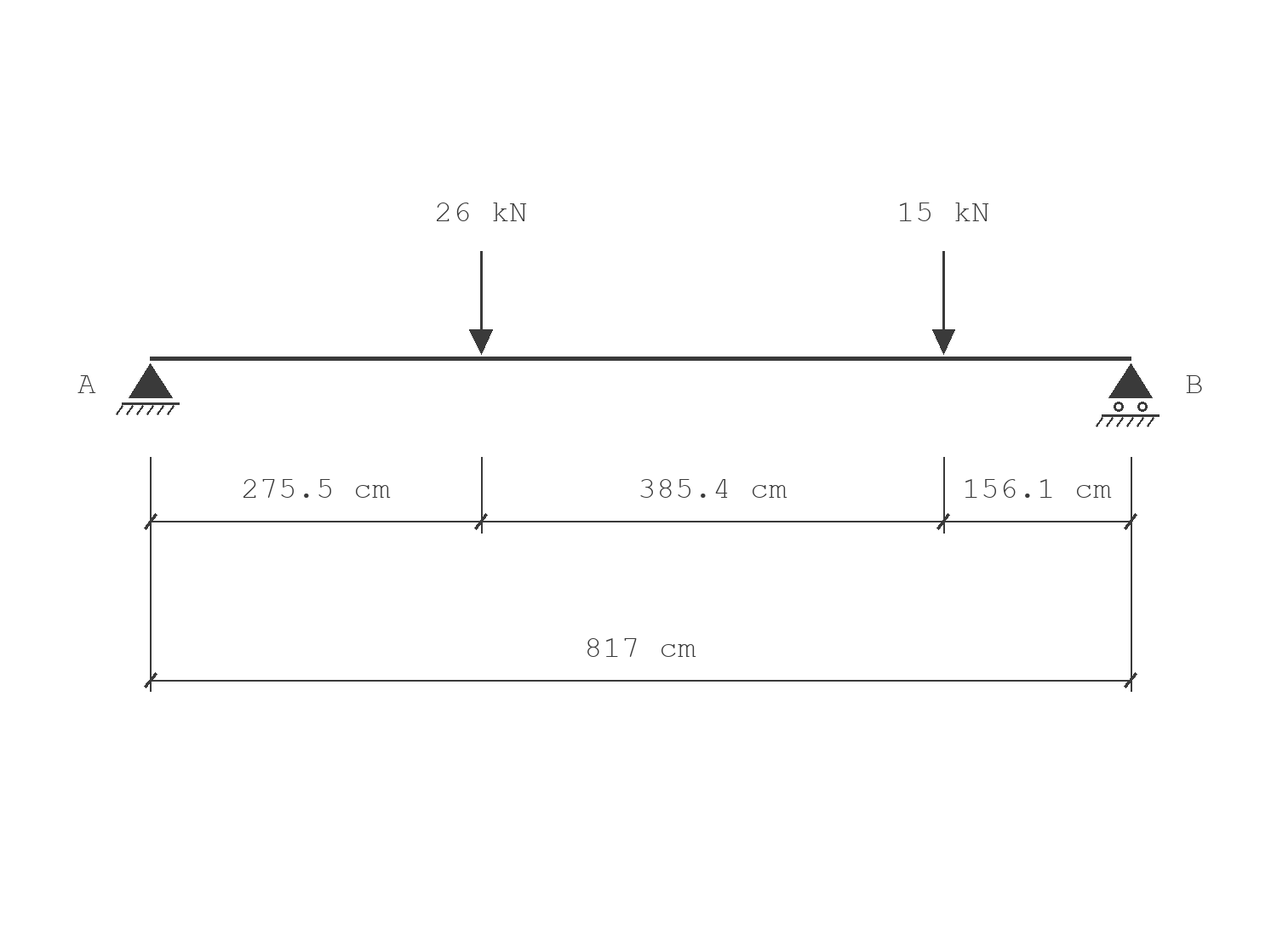pin_support: (116, 363, 180, 415)
point_load: (469, 251, 493, 355), (932, 251, 955, 355)
roller_support: (1096, 363, 1160, 427)
